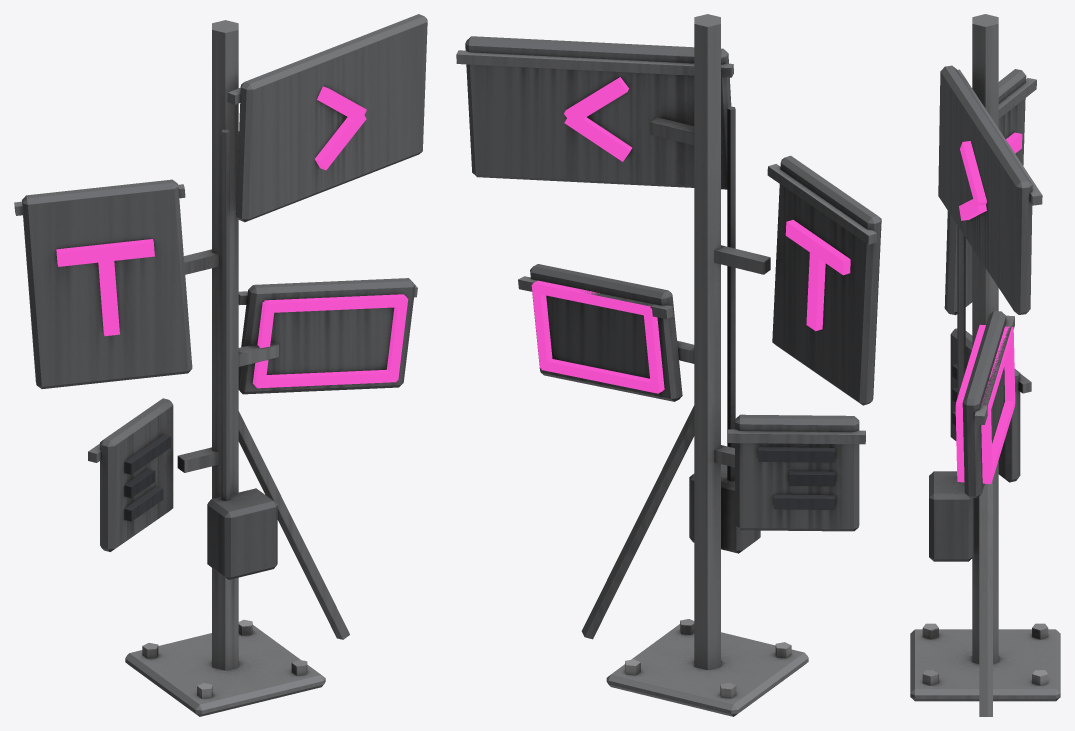
File: nodexeus-set-sign-d.glb
The picture shows the model from 3 angles, left to right: view 1: azimuth 30°, elevation 25°; view 2: azimuth 150°, elevation 25°; view 3: azimuth 270°, elevation 25°; orthographic projection.
Visible parts, largest first — view 1: set-sign-d; view 2: set-sign-d; view 3: set-sign-d.
Part boxes in pixels (x1,y1,x2,y2): set-sign-d: [14, 14, 427, 716]; set-sign-d: [456, 14, 881, 716]; set-sign-d: [910, 14, 1060, 716].
Size of the model in its own units: 1.39 by 2.1 by 0.44.
Materials: 1 (1 with a texture image).
